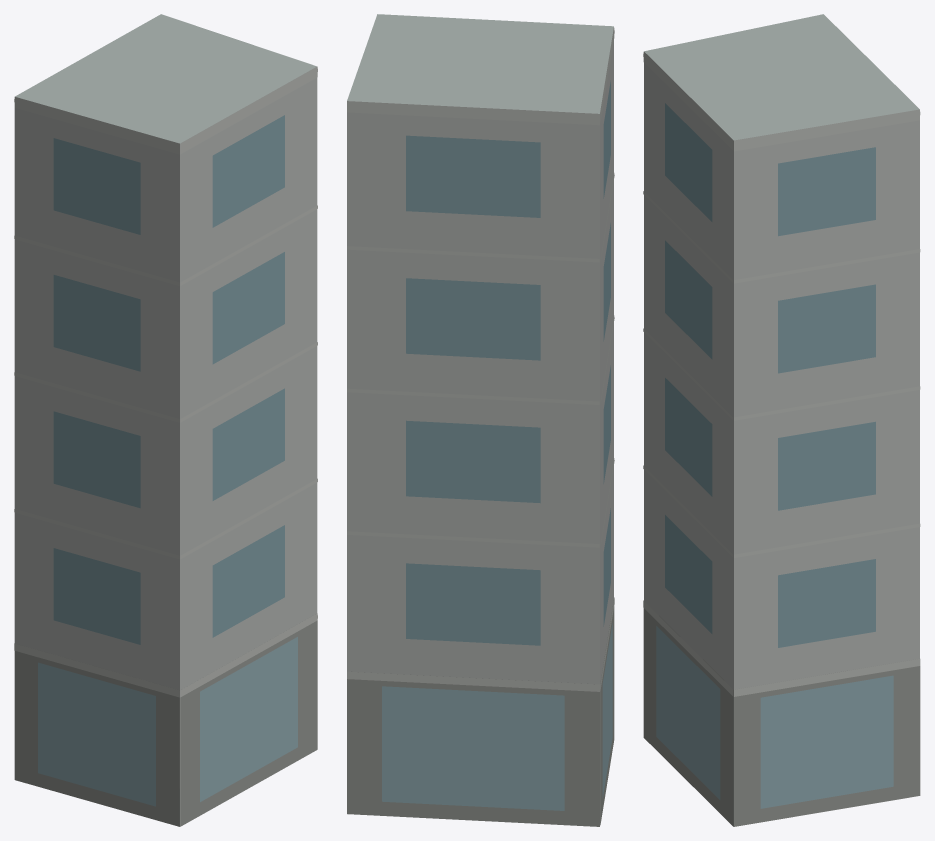
Rendered from survey-upis-32708619.glb.
3 renders of one model, left to right at view 1: azimuth 30°, elevation 25°; view 2: azimuth 150°, elevation 25°; view 3: azimuth 270°, elevation 25°, orthographic. The views are drawn at different scales.
Visible parts, largest first — view 1: survey-upis-32708619.tmp; view 2: survey-upis-32708619.tmp; view 3: survey-upis-32708619.tmp.
Boxes of the visible parts, bbox=[...] form: survey-upis-32708619.tmp: bbox=[14, 14, 317, 826]; survey-upis-32708619.tmp: bbox=[347, 14, 614, 826]; survey-upis-32708619.tmp: bbox=[643, 14, 920, 826].
Bounding box in the file's own units: 6.05 × 15.25 × 5.59.
